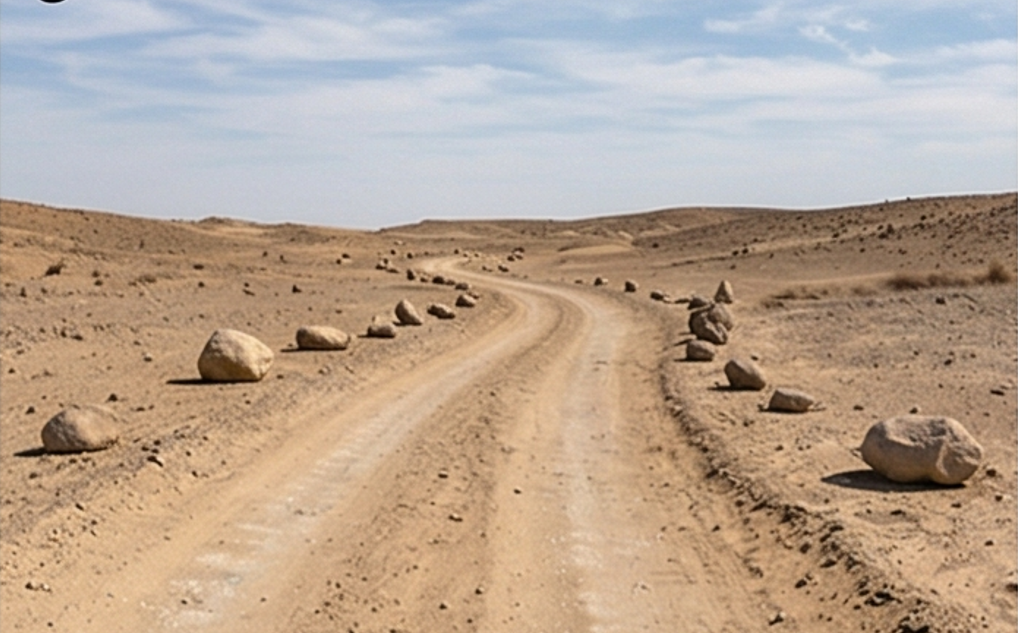rocks: (861, 414, 982, 484), (197, 328, 273, 382), (41, 405, 121, 452), (687, 301, 733, 359), (368, 300, 422, 337), (724, 358, 765, 390), (766, 387, 816, 412), (298, 327, 351, 350), (427, 303, 455, 318), (456, 294, 476, 307)
